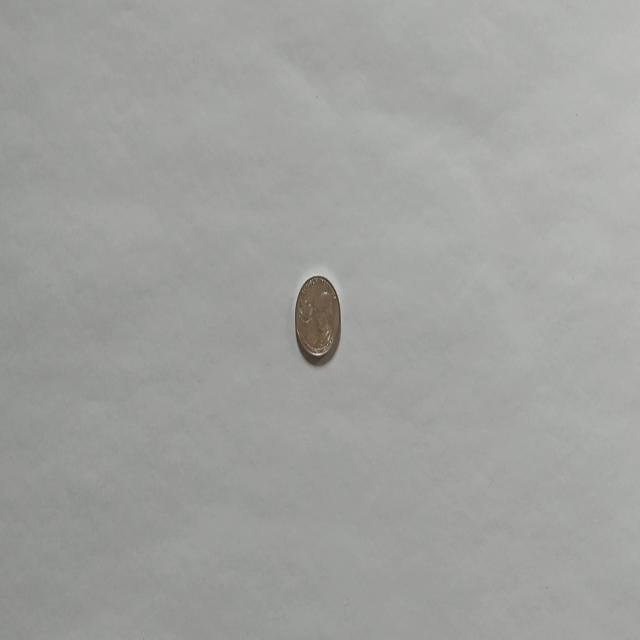lima ratus rupiah: (293, 272, 341, 364)
